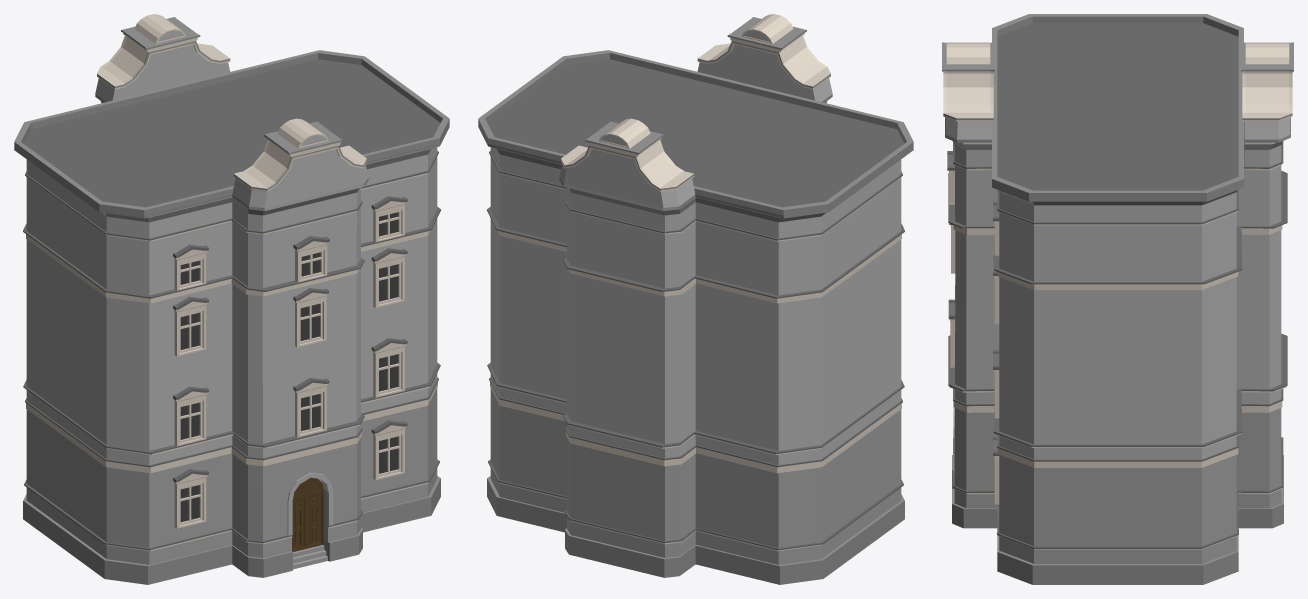
File: Building4.glb
3 views of the same model, side by side, from view 1: azimuth 30°, elevation 25°; view 2: azimuth 150°, elevation 25°; view 3: azimuth 270°, elevation 25° (orthographic). The views are drawn at different scales.
Parts seen in each view (by area): view 1: Building4; view 2: Building4; view 3: Building4.
Boxes of the visible parts, box(x1,y1,x2,y2) form: Building4: box(14, 14, 449, 584); Building4: box(478, 14, 913, 584); Building4: box(942, 14, 1293, 584).
Bounding box in the file's own units: 4.64 × 5.49 × 3.86.
